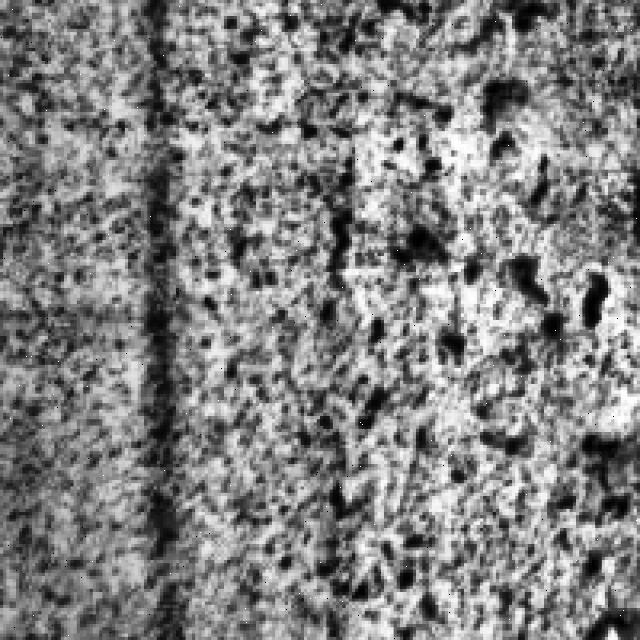Rolled_in_Scale: (86, 0, 570, 611)
